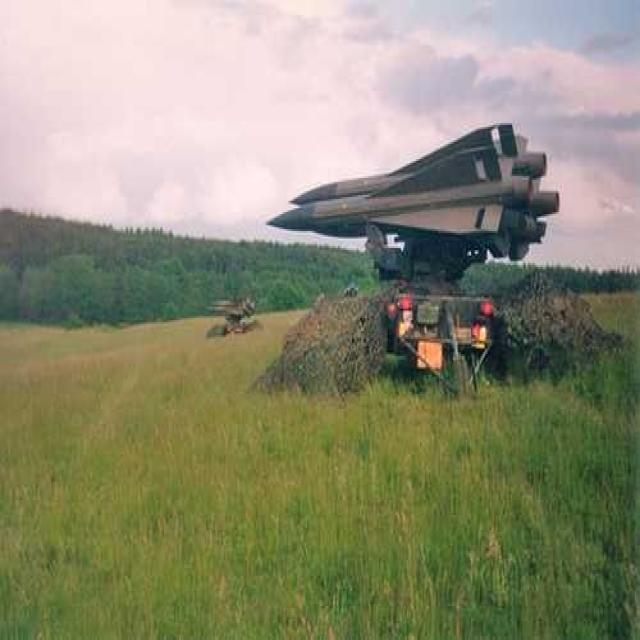missile: (263, 118, 551, 264)
